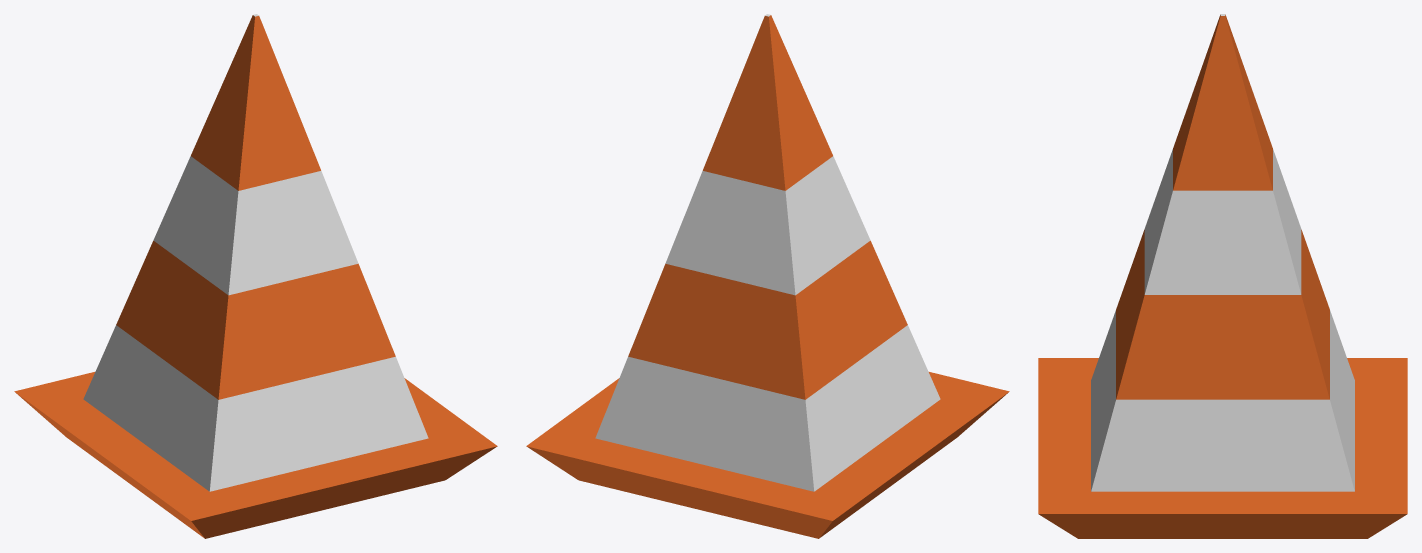
Rendered from traffic.fbx.
3 renders of one model, left to right at view 1: azimuth 30°, elevation 25°; view 2: azimuth 150°, elevation 25°; view 3: azimuth 270°, elevation 25°, orthographic. The views are drawn at different scales.
Visible parts, largest first — view 1: Cube; view 2: Cube; view 3: Cube.
Boxes of the visible parts, x1,y1,x2,y2 form: Cube: (14,14,497,538); Cube: (526,14,1009,538); Cube: (1038,14,1407,538).
Bounding box in the file's own units: 64.26 × 88.8 × 64.26.
